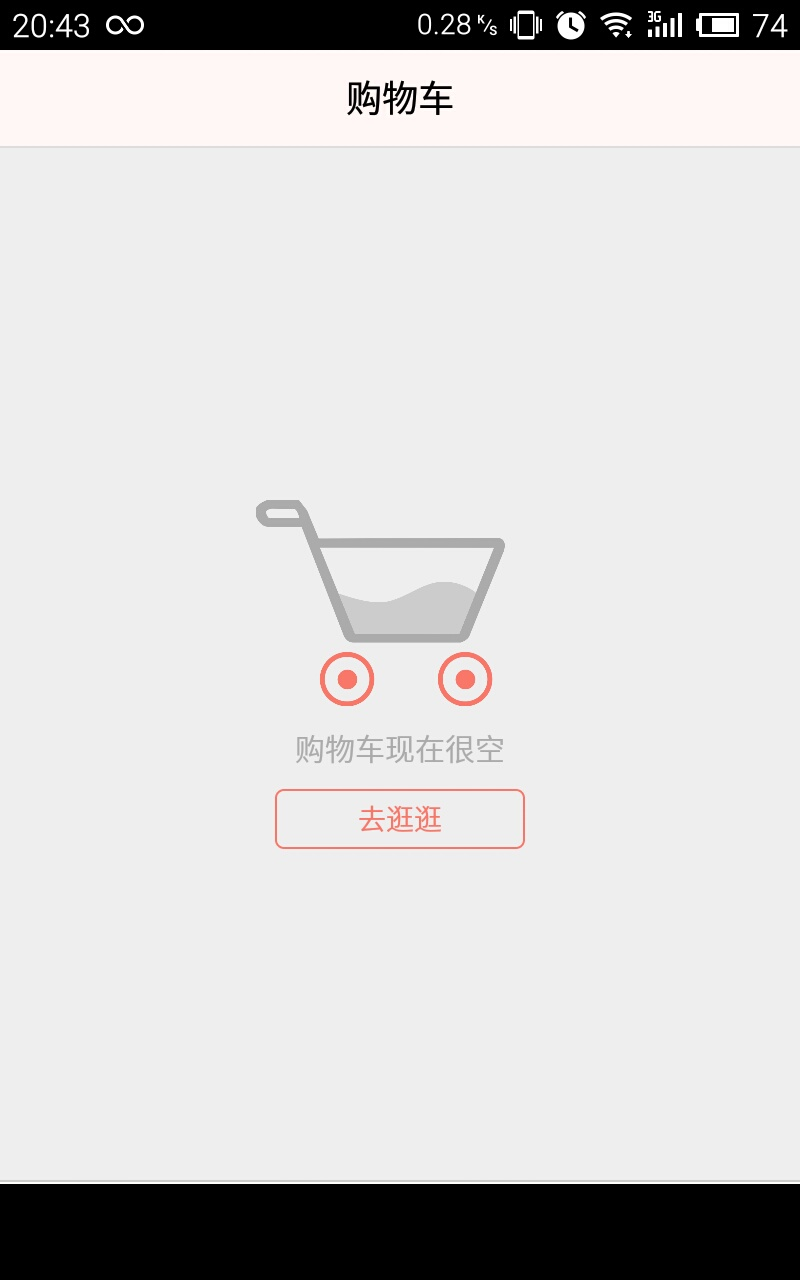button: (261, 783, 544, 864)
imgview: (239, 478, 529, 724)
textview: (1, 60, 799, 149)
